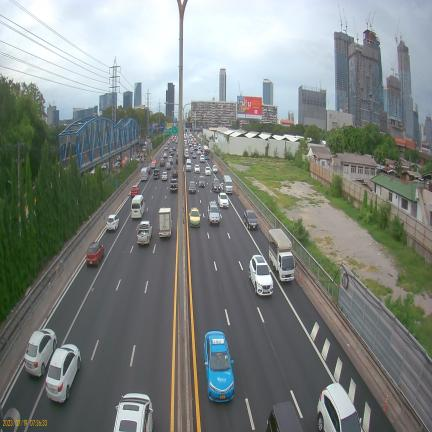bus: (204, 145, 209, 159)
car: (249, 255, 273, 296), (87, 242, 104, 266), (137, 221, 152, 244), (208, 201, 220, 225), (243, 210, 258, 229), (106, 215, 119, 231), (218, 193, 229, 208), (212, 178, 221, 192), (131, 185, 140, 197), (189, 181, 196, 193), (198, 175, 205, 187), (205, 166, 211, 175), (194, 164, 200, 173), (212, 165, 218, 173)
pickup: (170, 179, 178, 192)
taxi: (204, 331, 234, 402), (189, 207, 200, 226)
truck: (269, 229, 294, 281), (159, 208, 172, 237)
van: (131, 195, 145, 218), (223, 175, 233, 194), (140, 167, 148, 181), (186, 159, 192, 171)
